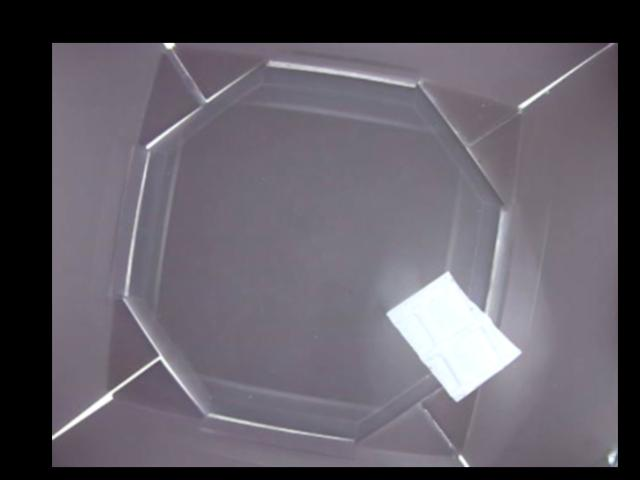China: (388, 267, 522, 405)
